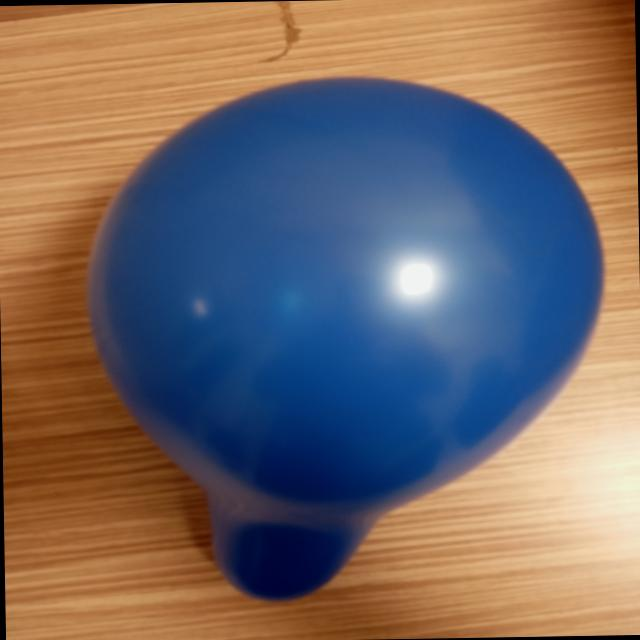balloon: (87, 78, 602, 600)
